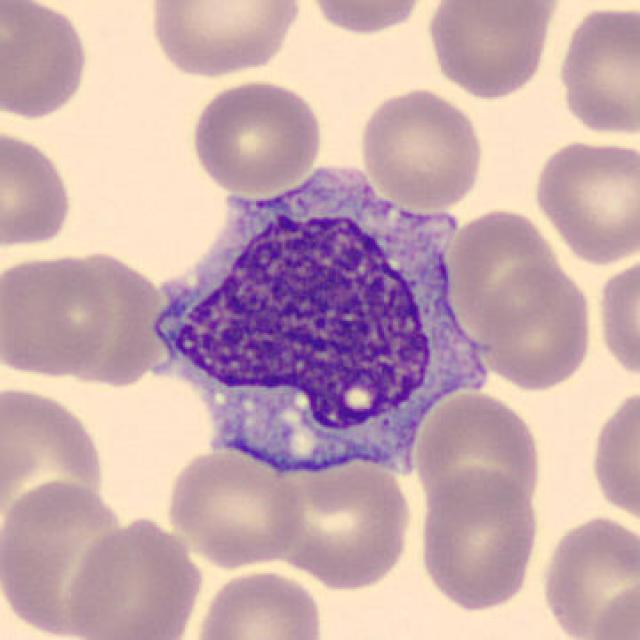Monocyte: (132, 161, 486, 488)
RBC: (2, 474, 135, 638), (268, 453, 416, 593), (414, 464, 544, 614), (162, 444, 308, 570), (64, 513, 204, 640), (410, 388, 546, 518), (0, 379, 110, 536), (187, 76, 327, 196), (356, 83, 487, 210), (442, 205, 562, 342), (54, 250, 166, 394), (474, 263, 596, 393), (0, 248, 116, 380), (530, 136, 638, 266), (423, 0, 560, 100), (537, 511, 638, 640), (144, 0, 306, 79), (553, 4, 638, 140), (0, 0, 92, 123), (190, 566, 327, 640), (0, 125, 76, 250), (587, 381, 638, 531), (594, 250, 638, 384), (302, 0, 430, 37), (584, 576, 638, 640)
